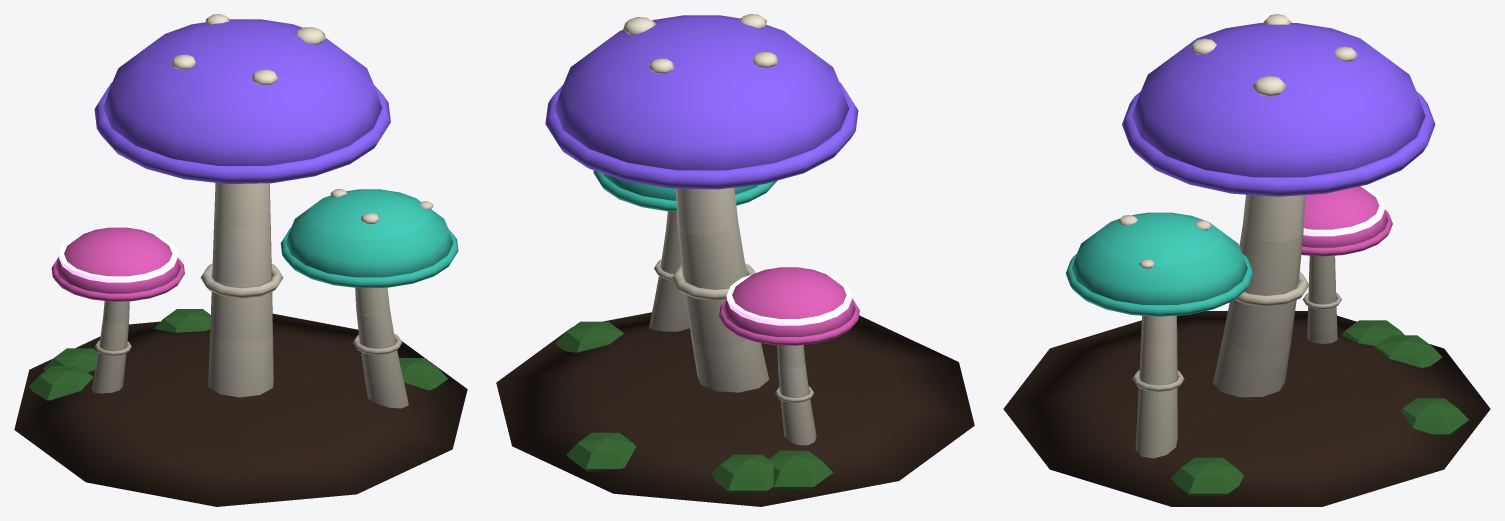
Rendered from wild_shrooms.glb.
3 renders of one model, left to right at view 1: azimuth 30°, elevation 25°; view 2: azimuth 150°, elevation 25°; view 3: azimuth 270°, elevation 25°, orthographic. The views are drawn at different scales.
Parts seen in each view (by area): view 1: t0_earth, t0_mushroom_violet, t0_mushroom_stem, t0_mushroom_teal, t0_mushroom_pink, t0_moss, t0_glow_pink; view 2: t0_earth, t0_mushroom_violet, t0_mushroom_stem, t0_mushroom_pink, t0_moss, t0_mushroom_teal, t0_glow_pink; view 3: t0_earth, t0_mushroom_violet, t0_mushroom_stem, t0_mushroom_teal, t0_moss, t0_mushroom_pink, t0_glow_pink.
Boxes of the visible parts, x1,y1,x2,y2 form: t0_earth: [14, 313, 467, 506]; t0_mushroom_violet: [94, 19, 390, 183]; t0_mushroom_stem: [92, 14, 433, 408]; t0_mushroom_teal: [280, 189, 458, 288]; t0_mushroom_pink: [51, 227, 184, 301]; t0_moss: [28, 309, 448, 400]; t0_glow_pink: [59, 232, 177, 282]; t0_earth: [496, 312, 974, 506]; t0_mushroom_violet: [545, 15, 858, 189]; t0_mushroom_stem: [623, 14, 816, 445]; t0_mushroom_pink: [719, 267, 859, 345]; t0_moss: [555, 321, 833, 492]; t0_mushroom_teal: [593, 170, 776, 211]; t0_glow_pink: [726, 272, 851, 325]; t0_earth: [1003, 311, 1490, 506]; t0_mushroom_violet: [1122, 23, 1435, 196]; t0_mushroom_stem: [1118, 14, 1357, 458]; t0_mushroom_teal: [1065, 212, 1253, 316]; t0_moss: [1171, 320, 1468, 495]; t0_mushroom_pink: [1301, 186, 1392, 256]; t0_glow_pink: [1303, 186, 1384, 236].
Size of the model in its own units: 0.6151 by 0.562 by 0.6467.
